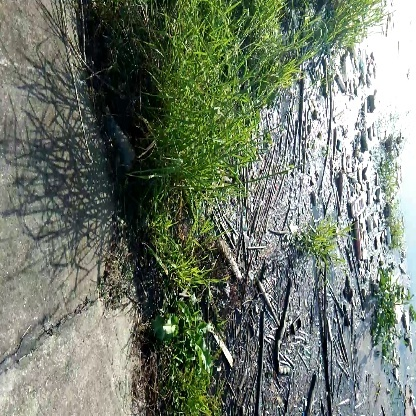branch: (259, 279, 299, 413), (314, 311, 346, 416)
grass: (163, 89, 233, 197)
